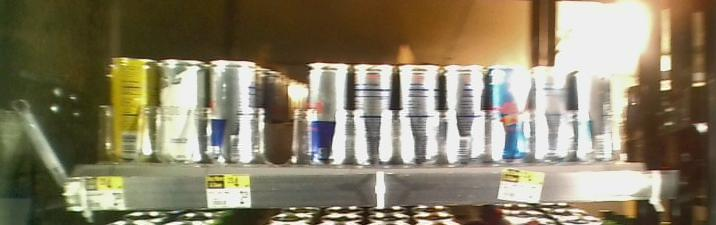bottle: (208, 44, 257, 172), (105, 46, 155, 165), (158, 47, 206, 165), (400, 51, 444, 164), (307, 52, 349, 163), (533, 54, 573, 170), (447, 52, 486, 169), (354, 55, 397, 161), (489, 60, 531, 166)
